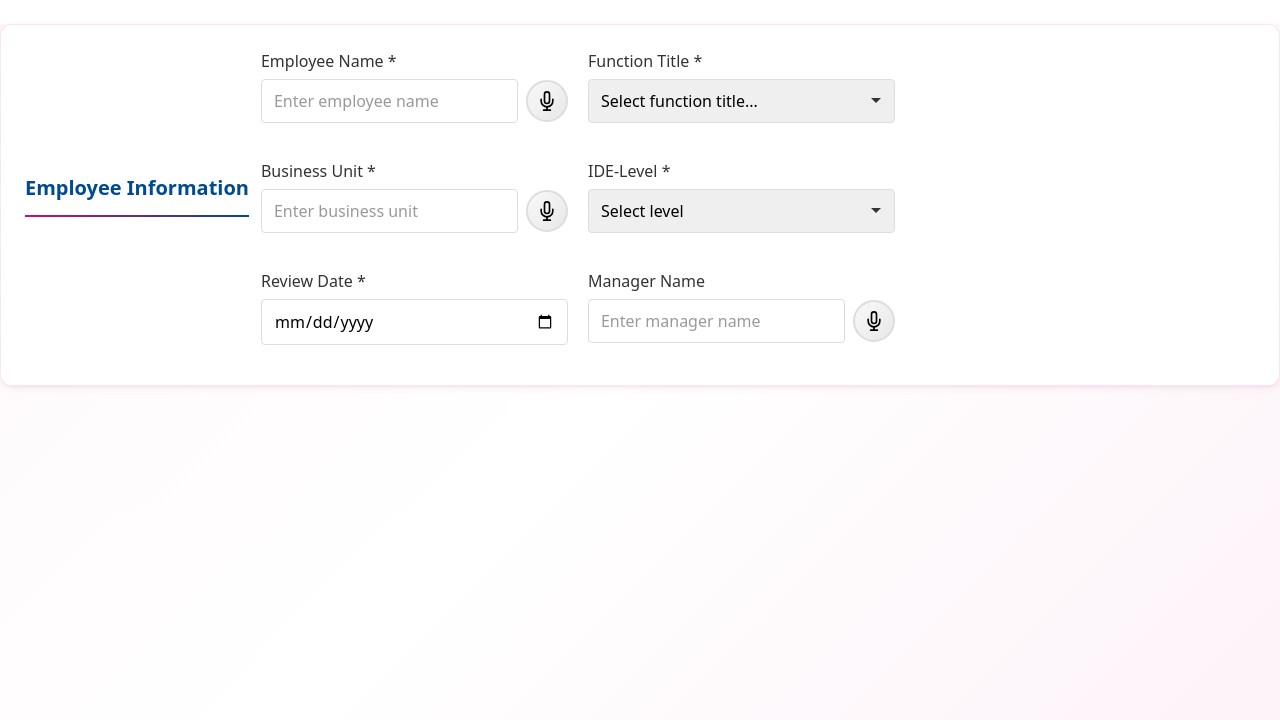
Scenario: EmployeeInfo › should hide auto-applied badge when TOV level is manually changed
The image size is (1280, 720).
// Select function title with TOV level mapping
Select "Software Engineer (B)" in the dropdown labelled "Function Title *" at (742, 101), box x1=588 y1=79 x2=895 y2=123
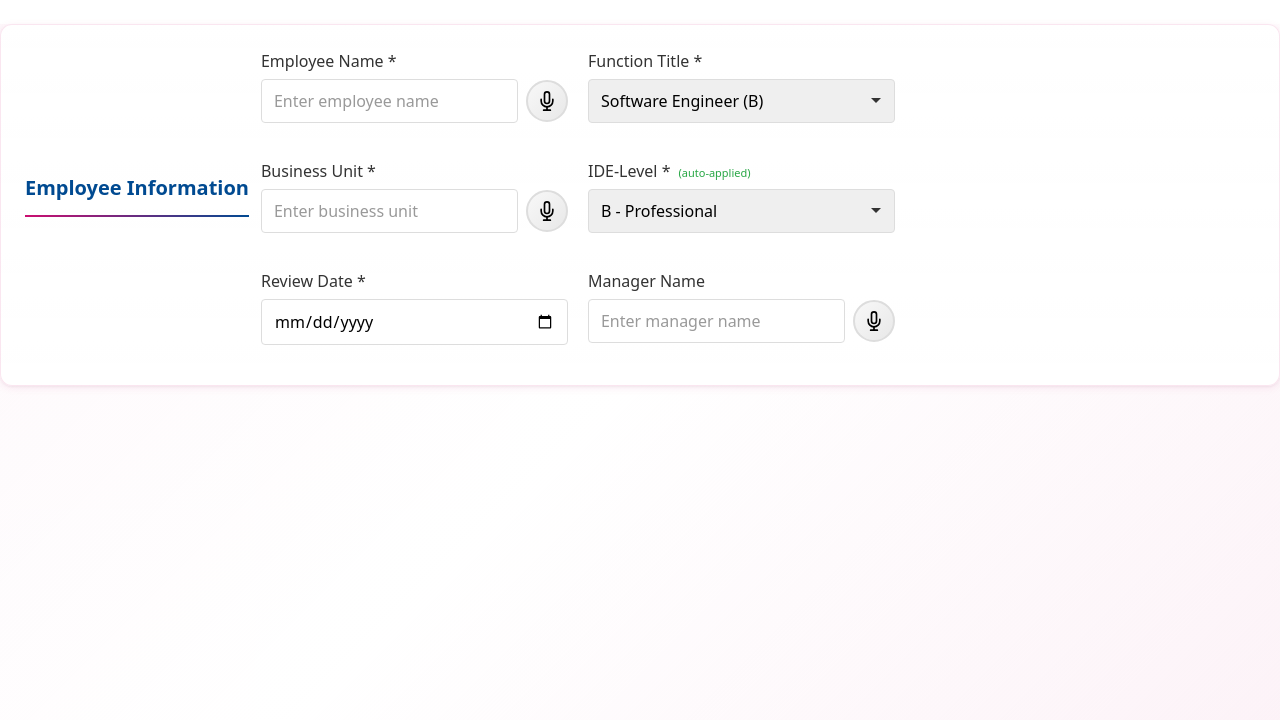
Check: the text "(auto-applied)" is shown, box x1=678 y1=165 x2=751 y2=180
// Manually change TOV level
Select "C - Senior" in the dropdown labelled "IDE-Level *(auto-applied)" at (742, 211), box x1=588 y1=189 x2=895 y2=233
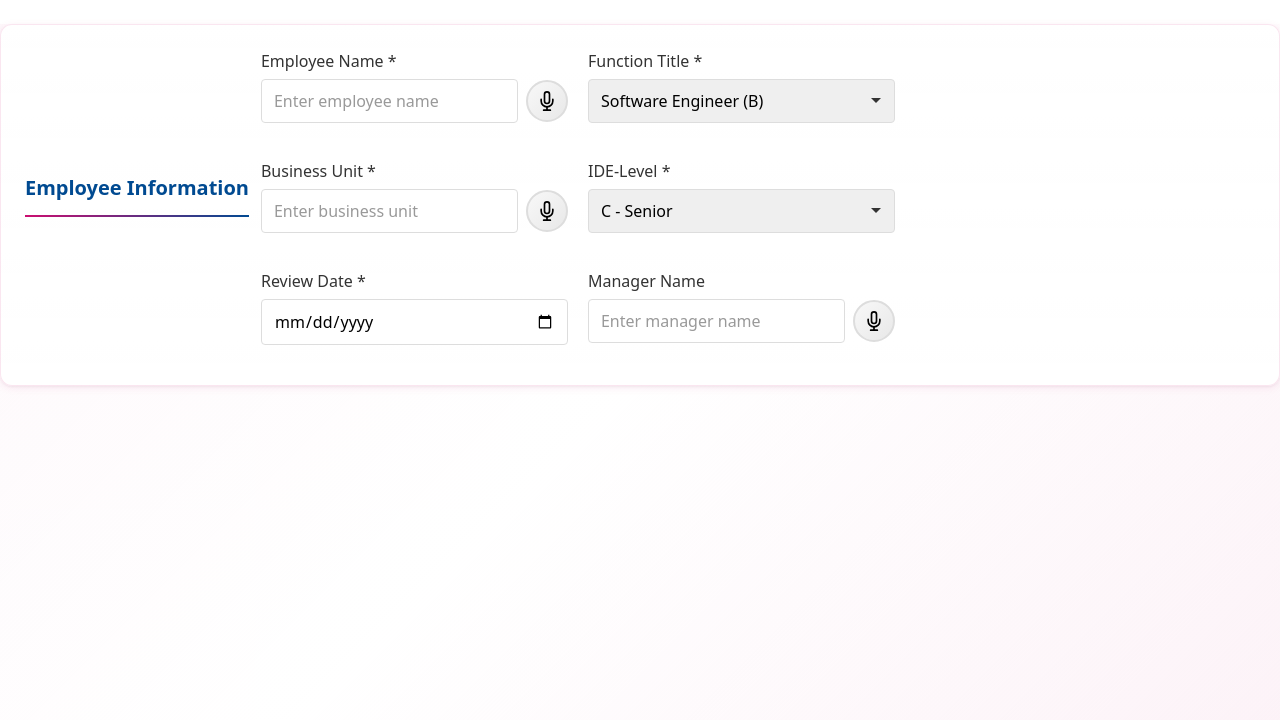
Check: the text "auto-applied" is gone
